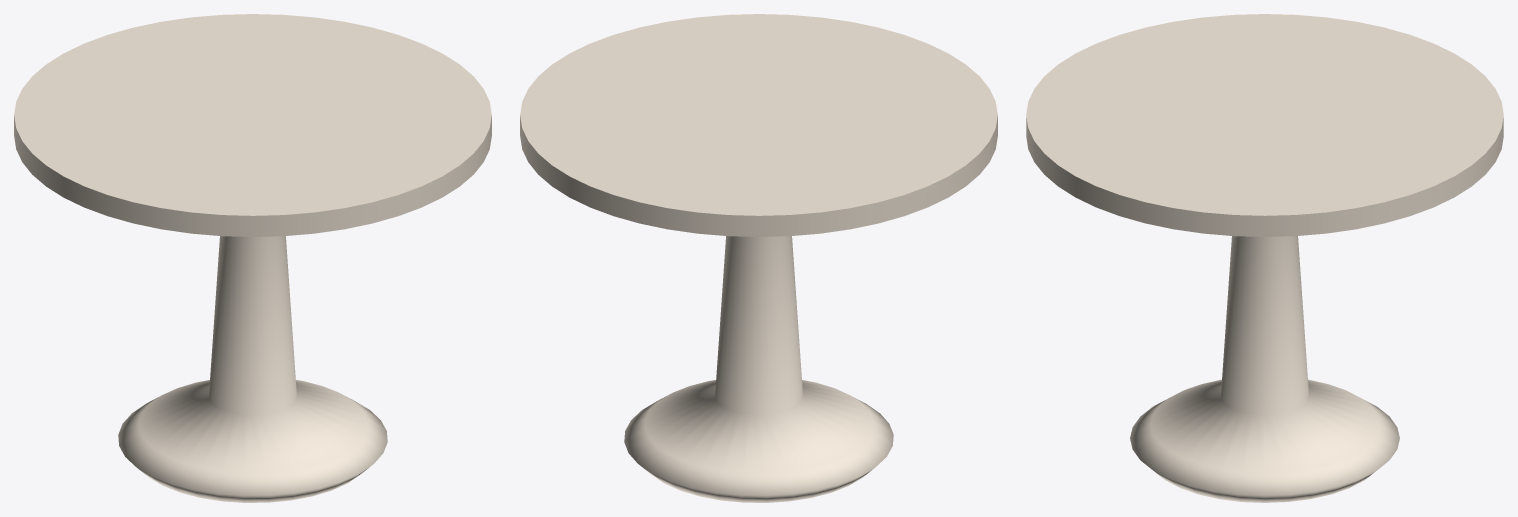
Rendered from pedestal-table.glb.
The picture shows the model from 3 angles, left to right: view 1: azimuth 30°, elevation 25°; view 2: azimuth 150°, elevation 25°; view 3: azimuth 270°, elevation 25°; orthographic projection.
Parts seen in each view (by area): view 1: surface-#F0E6D8,0,0.7; view 2: surface-#F0E6D8,0,0.7; view 3: surface-#F0E6D8,0,0.7.
Part boxes in pixels (box(x1,y1,x2,y2)): surface-#F0E6D8,0,0.7: box(14, 14, 491, 502); surface-#F0E6D8,0,0.7: box(520, 14, 997, 502); surface-#F0E6D8,0,0.7: box(1026, 14, 1503, 502).
Size of the model in its own units: 0.92 by 0.7175 by 0.92.
